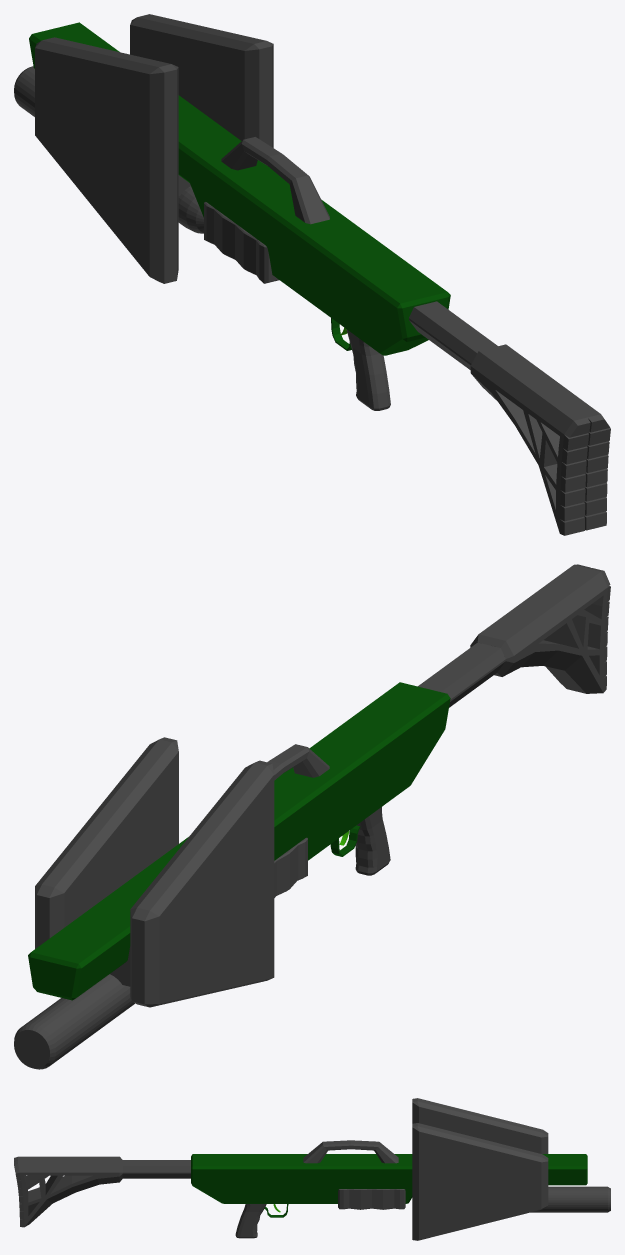
File: Anti-Drone Rifle Model.fbx
3 views of the same model, one above another, from view 1: azimuth 30°, elevation 25°; view 2: azimuth 150°, elevation 25°; view 3: azimuth 270°, elevation 25° (orthographic). The views are drawn at different scales.
Parts seen in each view (by area): view 1: Antenna_L, Body, Buttstock, Antenna_R, Transport Handle, Tube, Handle, Pistol Hendle, Antenna_Down; view 2: Antenna_L, Body, Antenna_R, Buttstock, Antenna_Down, Tube, Pistol Hendle, Transport Handle, Handle; view 3: Antenna_R, Body, Buttstock, Antenna_L, Antenna_Down, Handle, Tube, Transport Handle, Pistol Hendle.
Part boxes in pixels (<box>): Antenna_L: <box>35,37,178,283</box>; Body: <box>29,22,450,355</box>; Buttstock: <box>470,344,610,535</box>; Antenna_R: <box>130,14,273,147</box>; Transport Handle: <box>221,137,329,224</box>; Tube: <box>409,301,497,369</box>; Handle: <box>204,202,279,283</box>; Pistol Hendle: <box>346,329,390,410</box>; Antenna_Down: <box>14,66,203,233</box>; Antenna_L: <box>130,760,274,1007</box>; Body: <box>28,682,450,1000</box>; Antenna_R: <box>35,737,178,948</box>; Buttstock: <box>470,564,610,693</box>; Antenna_Down: <box>14,974,134,1069</box>; Tube: <box>418,642,505,707</box>; Pistol Hendle: <box>355,807,390,875</box>; Transport Handle: <box>267,744,329,780</box>; Handle: <box>274,837,307,897</box>; Antenna_R: <box>412,1123,548,1240</box>; Body: <box>191,1154,587,1203</box>; Buttstock: <box>14,1156,122,1227</box>; Antenna_L: <box>412,1098,548,1153</box>; Antenna_Down: <box>530,1186,610,1212</box>; Handle: <box>338,1189,405,1209</box>; Tube: <box>122,1160,190,1178</box>; Transport Handle: <box>303,1140,398,1163</box>; Pistol Hendle: <box>235,1204,266,1238</box>.
Bounding box in the file's own units: 0.253 × 1.97 × 0.4511.
